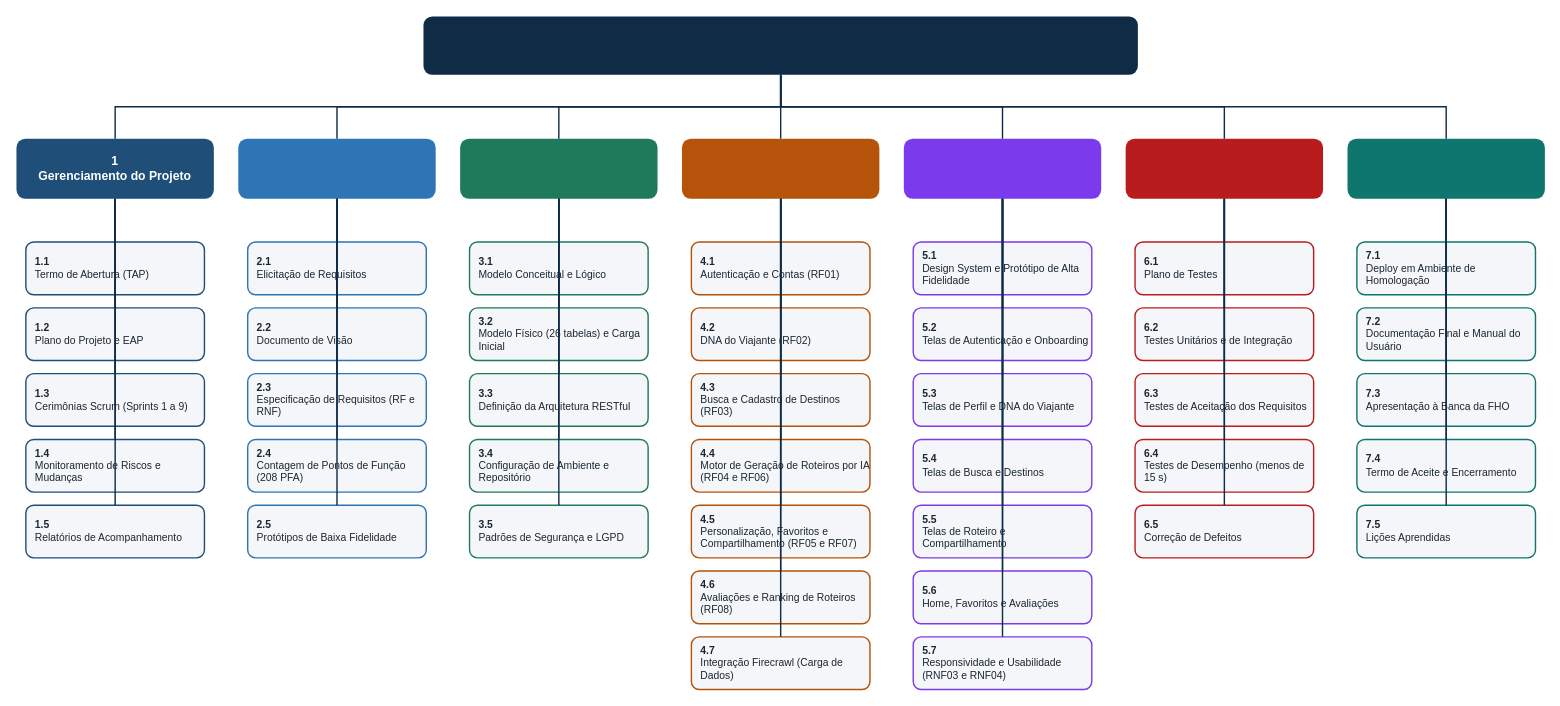
This 1560x706 diagram has some shape labels left out. The shapes that lost their labels are listed below. From the top down, each one's centre as x and y in pixels, then its label:
the point at 780,45: EAP / WBS Viajero – Plataforma Inteligente de Planejamento de Viagens
the point at 336,168: 2 Requisitos e Análise
the point at 558,168: 3 Arquitetura e Banco de Dados
the point at 780,168: 4 Backend e Integrações de IA
the point at 1002,168: 5 Frontend Web
the point at 1224,168: 6 Testes e Qualidade
the point at 1445,168: 7 Homologação e Encerramento
